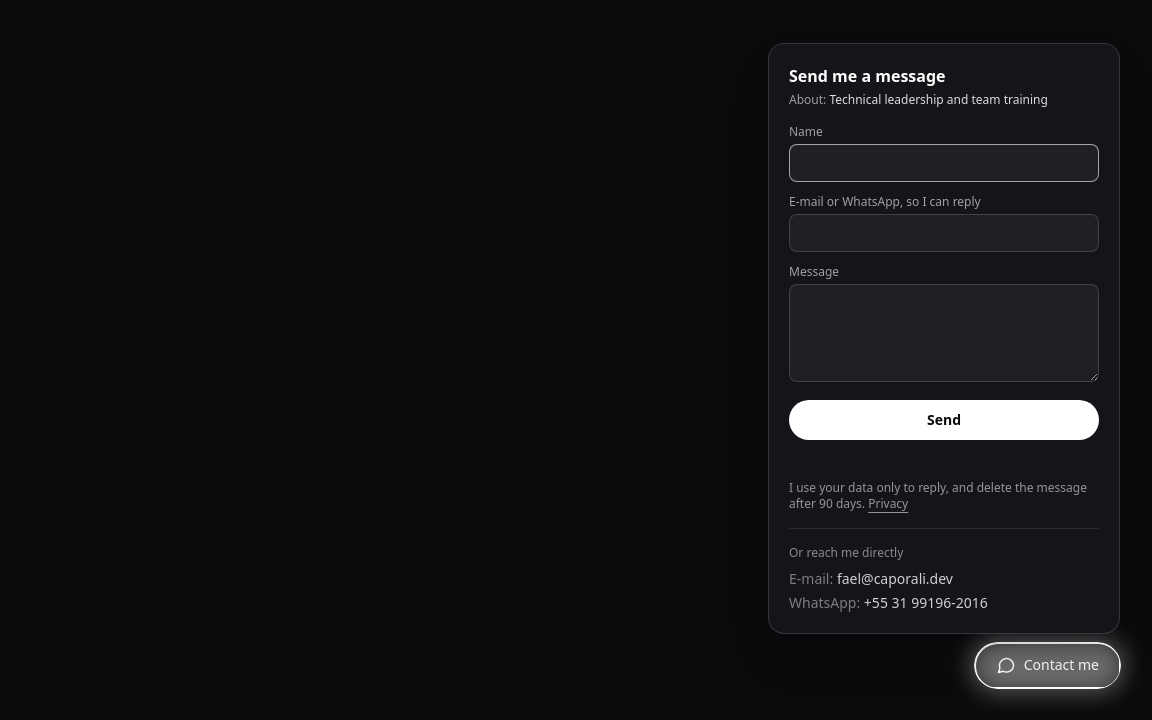
Test: widget de contato › aberto pelo CTA de uma oferta: mostra o assunto e o junta à mensagem; o mínimo vale para o texto da pessoa
The image size is (1152, 720).
Expected: the text "Technical leadership and team training" is shown, [829,91,1048,108]
Expected: the text "About: Technical leadership and team training" is shown, [789,91,1048,108]
Type "Maria" into the field labelled "Name" at (944, 163), box [789,144,1099,182]
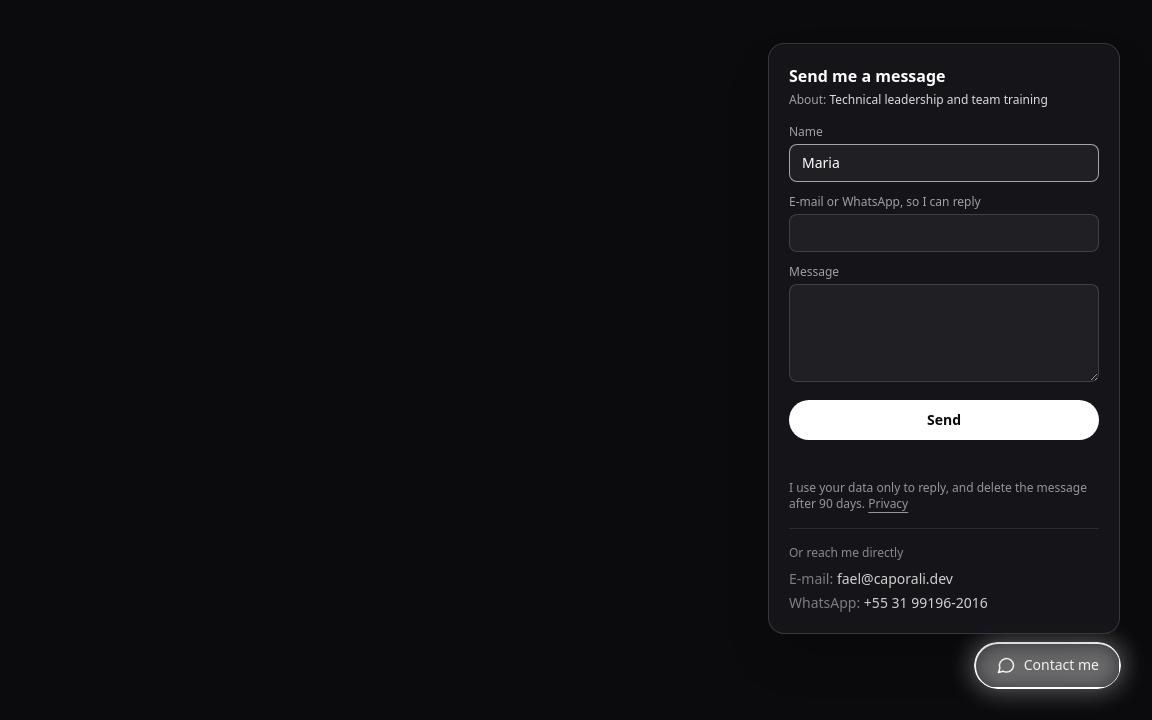
Type "maria@example.com" into the field labelled "E-mail or WhatsApp, so I can reply" at (944, 233), box [789,214,1099,252]
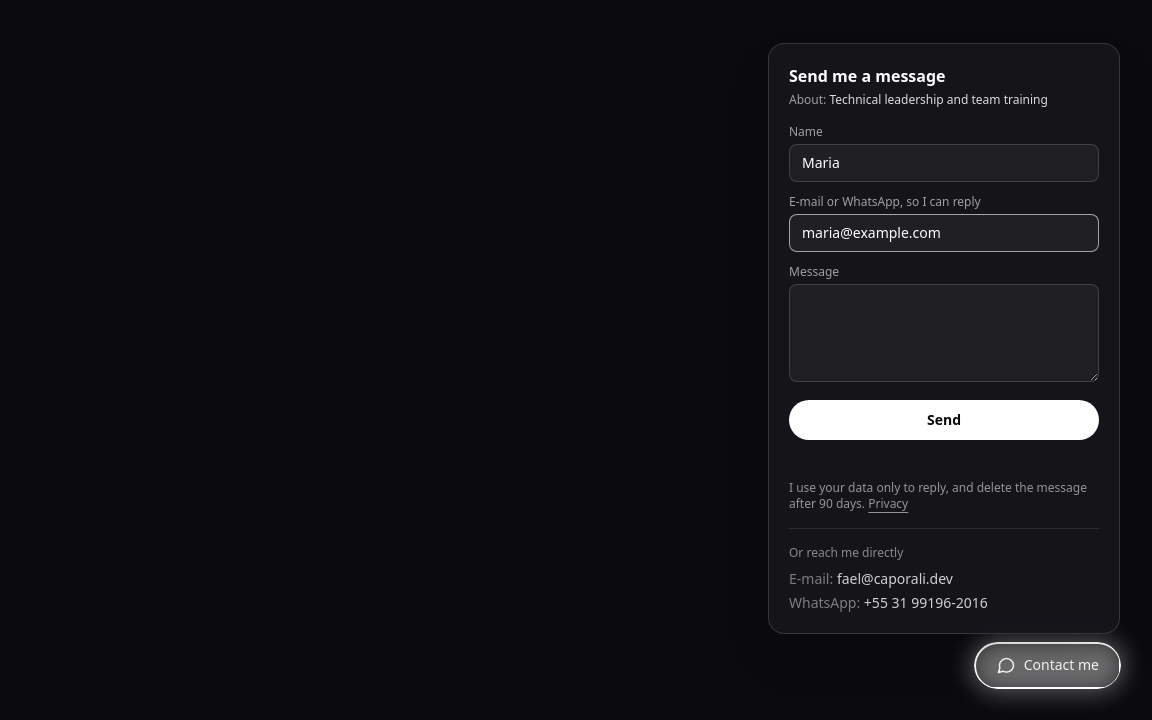
Curta demais: o assunto não conta para o mínimo.
Type "Oi" into the text box labelled "Message" at (944, 333), box [789,284,1099,382]
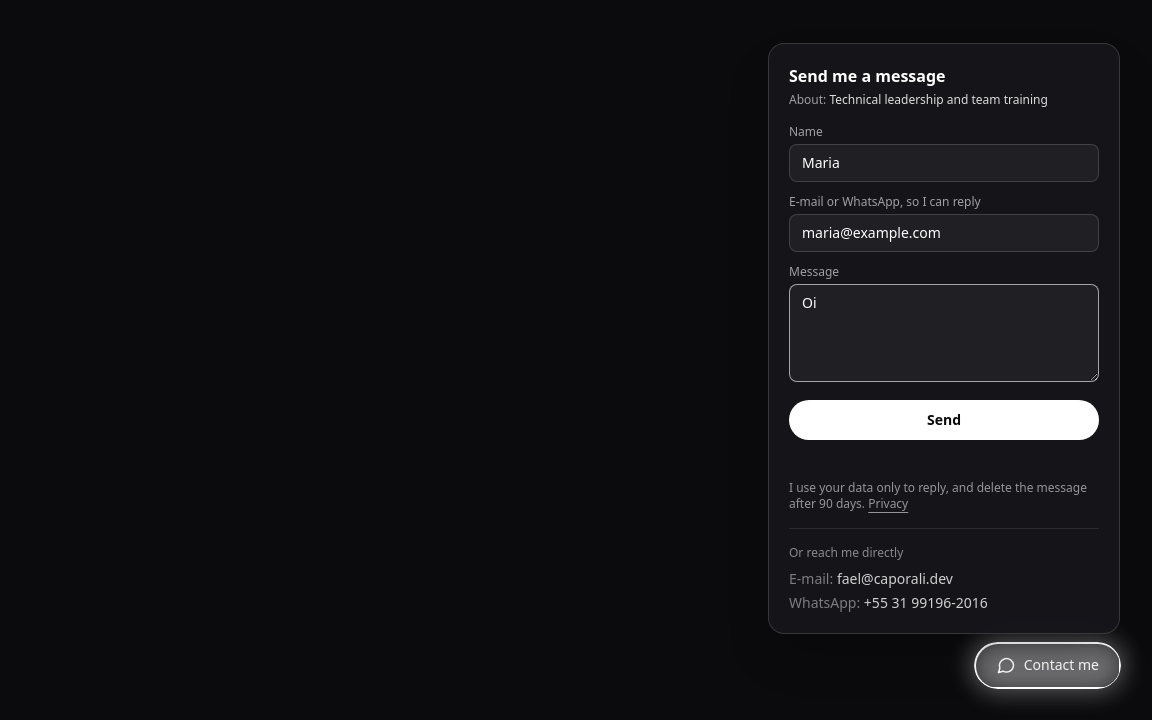
Click the button "Send" at (944, 420), box [789,400,1099,440]
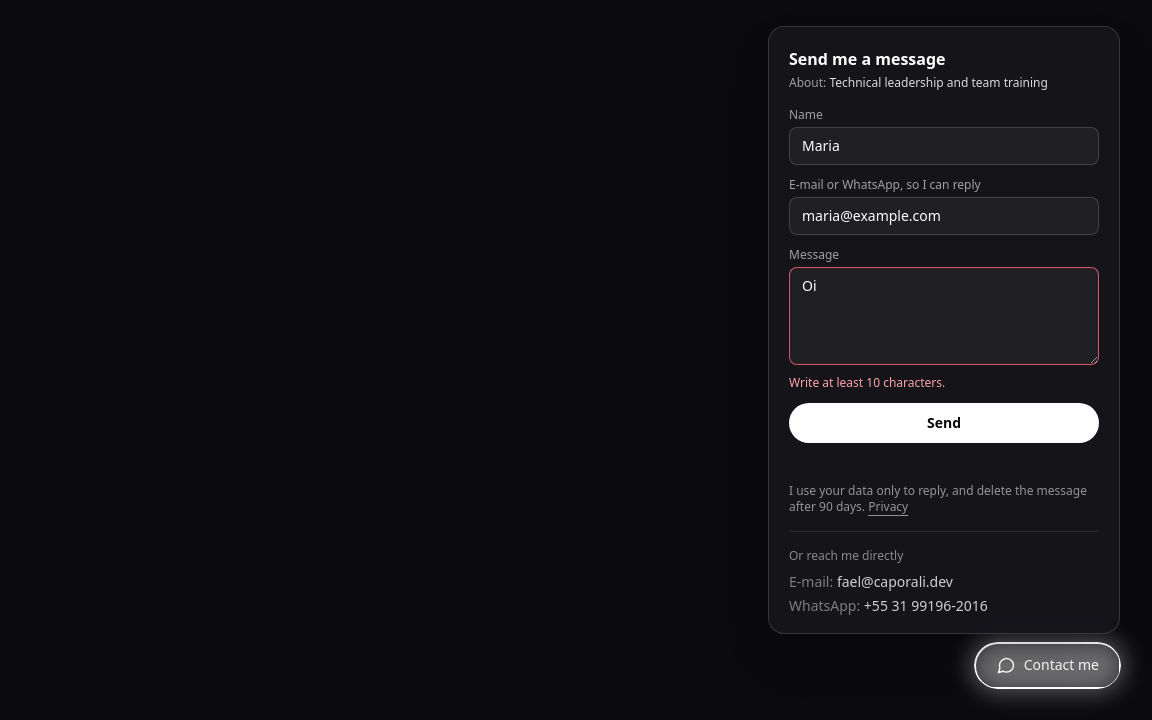
Expected: the text box labelled "Message" is marked as invalid
Type ", vamos falar do meu time?" into the text box labelled "Message" at (944, 316), box [789,267,1099,365]
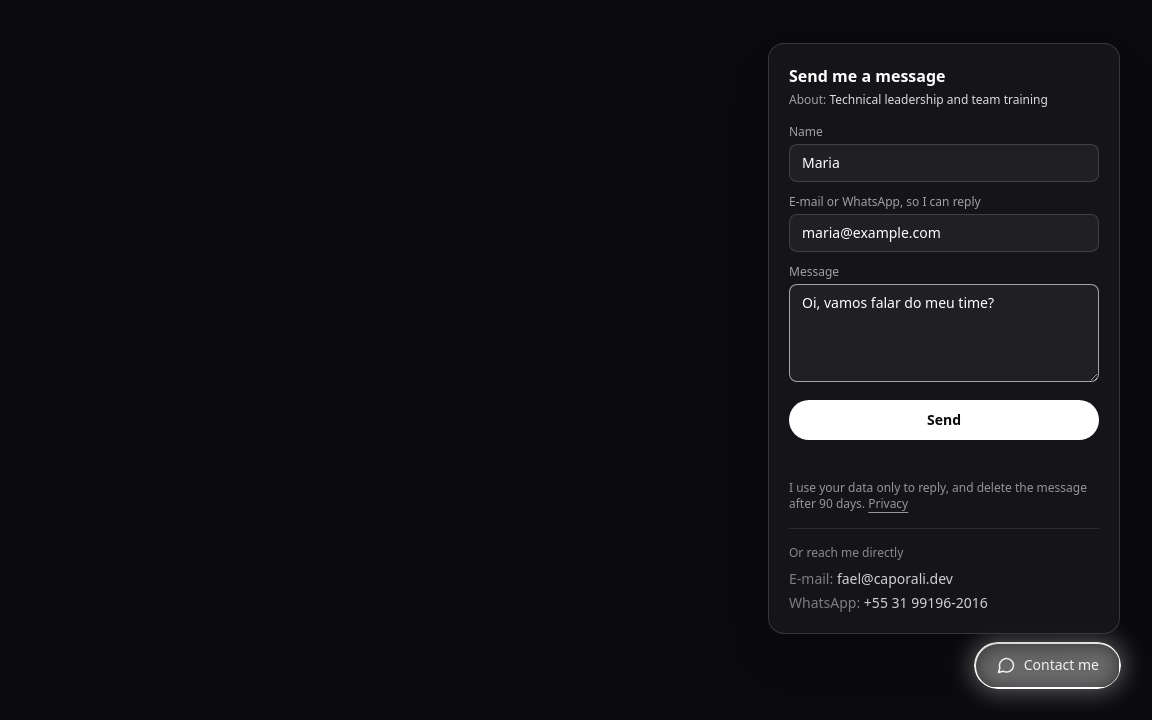
Click the button "Send" at (944, 420), box [789,400,1099,440]
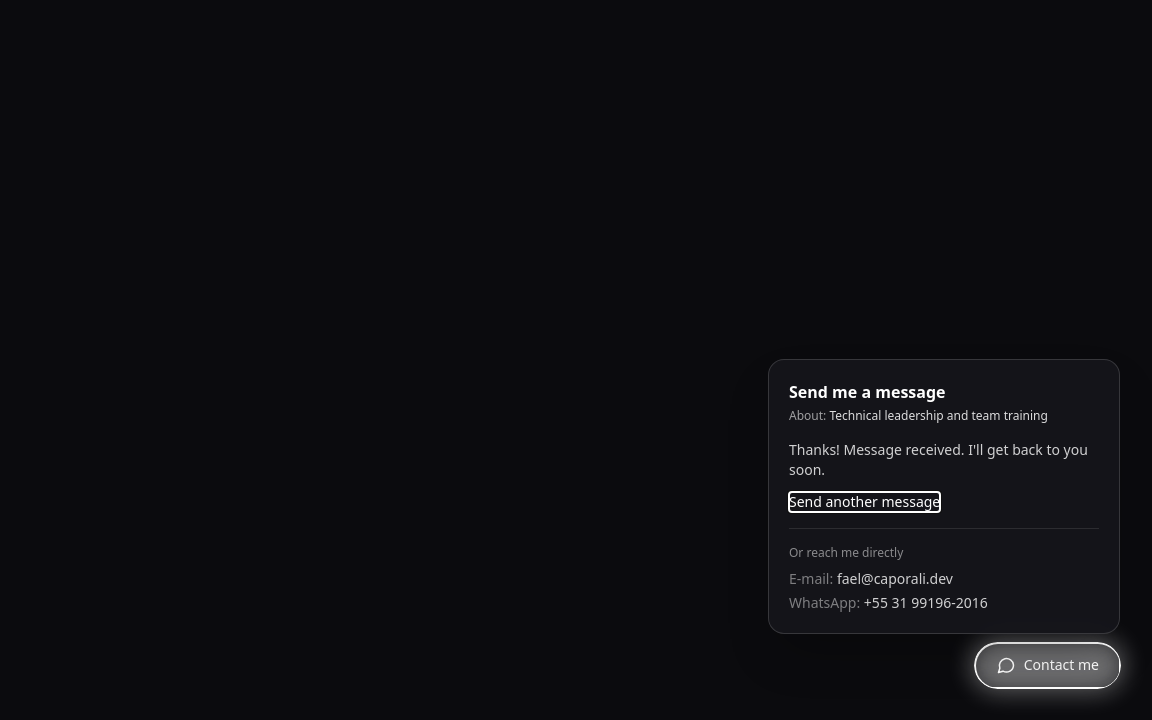
Expected: the text "Thanks! Message received. I'll get back to you soon." is shown, [789,440,1099,480]
